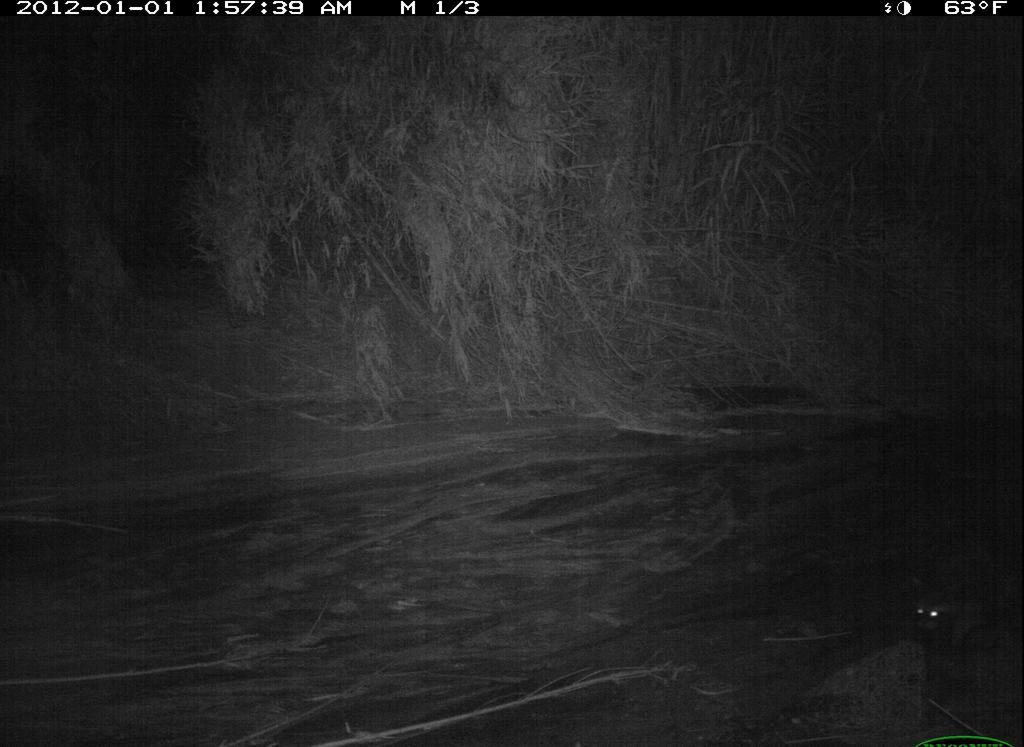raccoon: (902, 551, 1021, 648)
